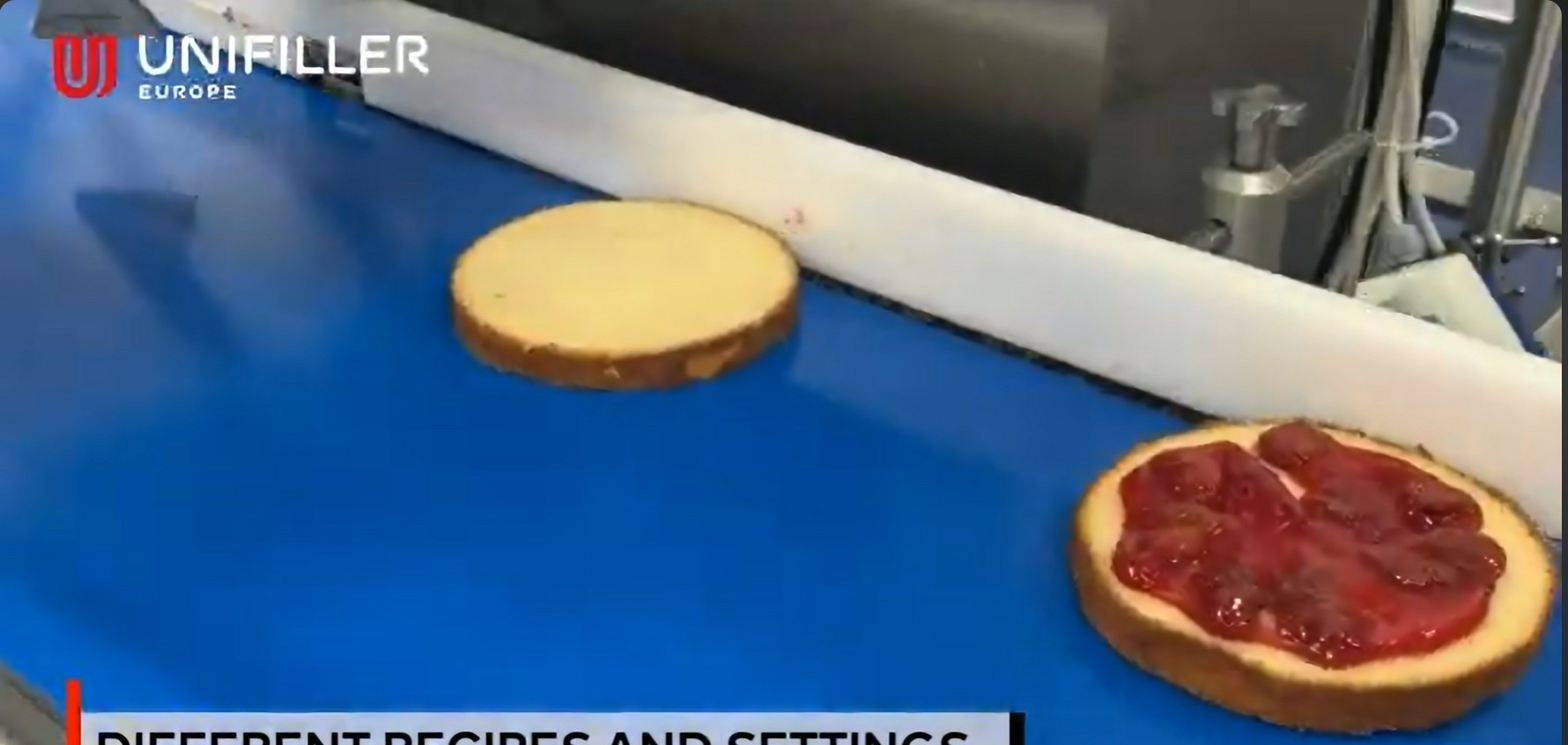Jam Coated: (1072, 413, 1563, 745)
Sponge Cake: (449, 201, 802, 386)
